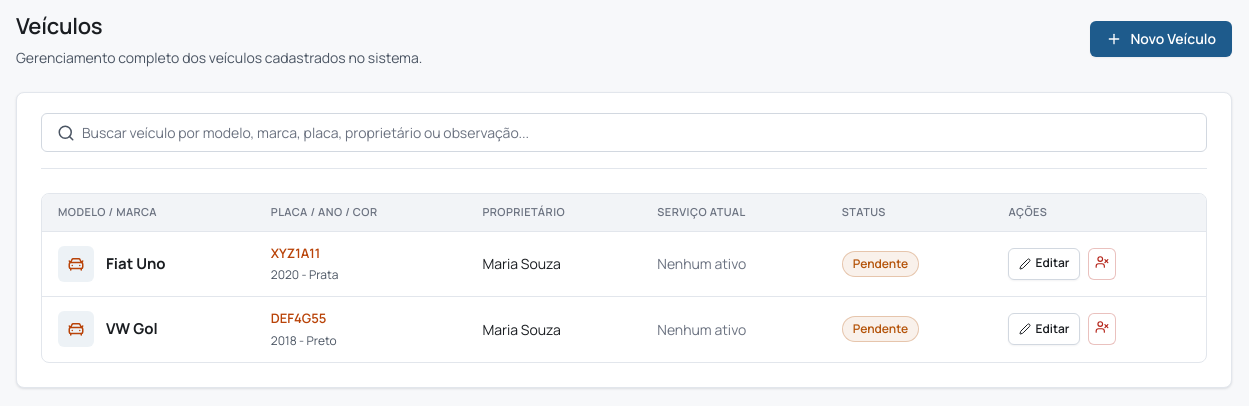
Tela de Veiculos › filtra pela busca (placa)
Replace the text in the field with placeholder "Buscar veículo" with "DEF4G55". click: [624, 132]
box: 41,113 -> 1207,152
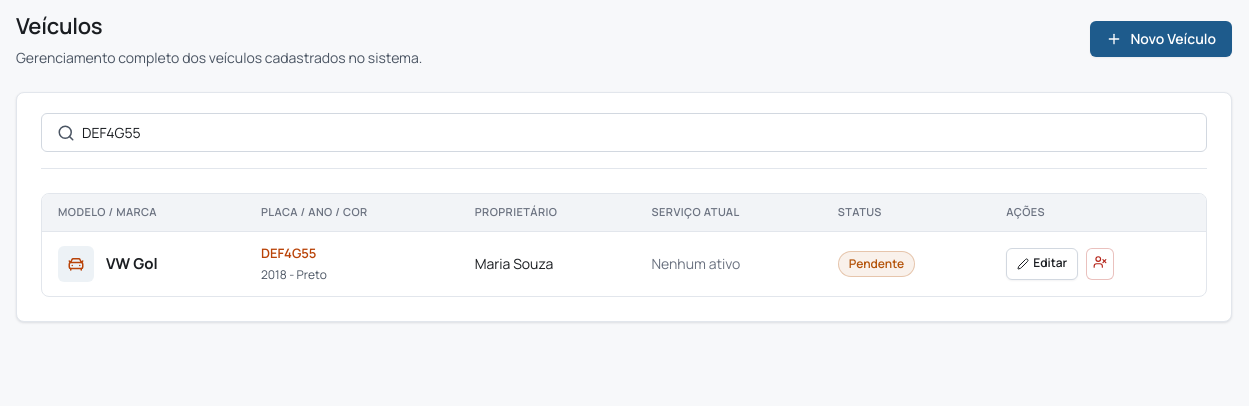
Expected: the text "VW Gol" is shown, 106,252 -> 158,274
Now the text "Fiat Uno" is gone
